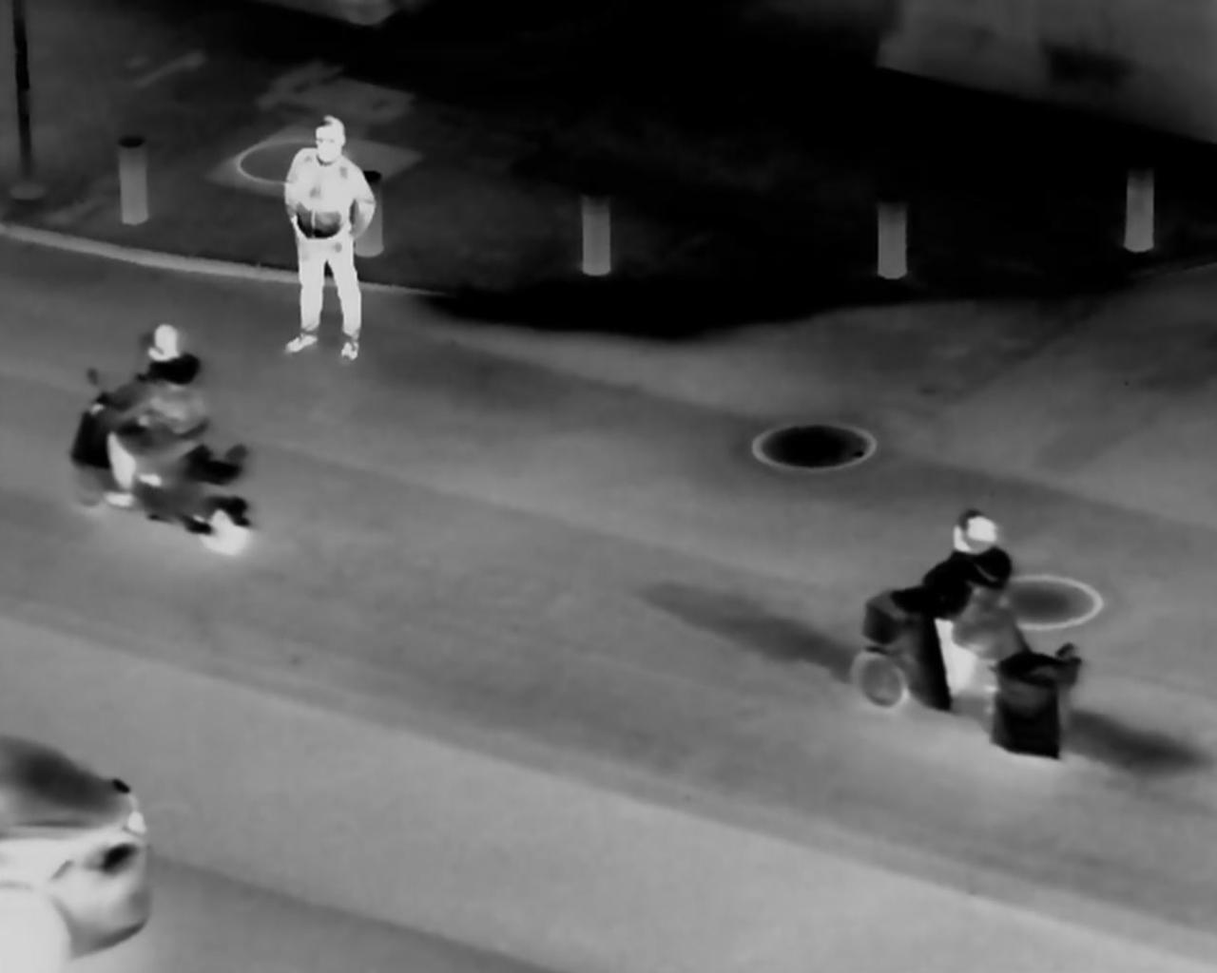person: (278, 106, 377, 372), (92, 321, 217, 511), (906, 500, 1014, 716)
